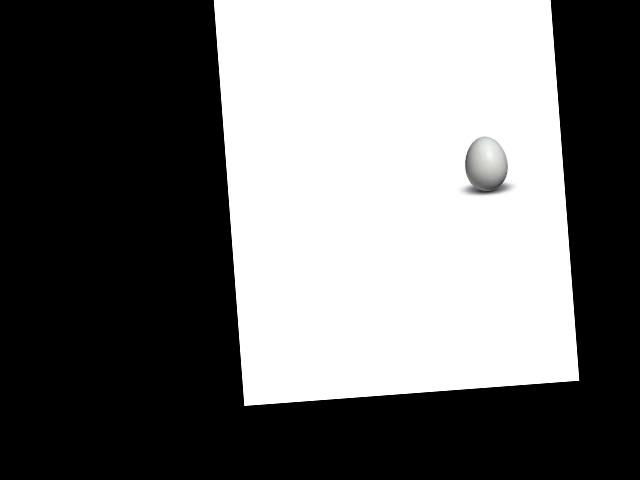egg: (464, 134, 509, 192)
